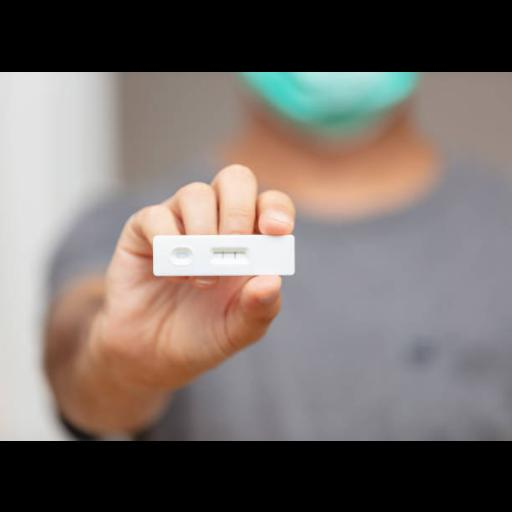Pos: (151, 234, 293, 274)
